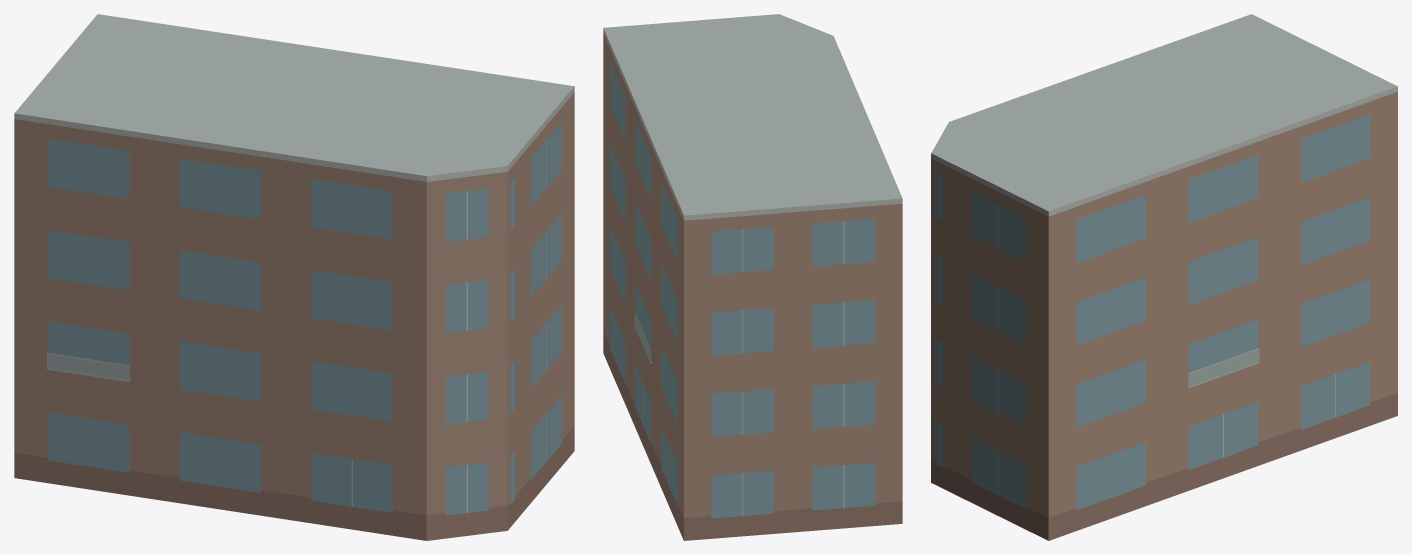
The model's file is survey-upis-32926581.glb.
3 renders of one model, left to right at view 1: azimuth 30°, elevation 25°; view 2: azimuth 150°, elevation 25°; view 3: azimuth 270°, elevation 25°, orthographic. The views are drawn at different scales.
Visible parts, largest first — view 1: survey-upis-32926581.tmp; view 2: survey-upis-32926581.tmp; view 3: survey-upis-32926581.tmp.
Part boxes in pixels (x1,y1,x2,y2): survey-upis-32926581.tmp: (14, 14, 574, 540); survey-upis-32926581.tmp: (603, 14, 902, 540); survey-upis-32926581.tmp: (931, 14, 1397, 540).
Bounding box in the file's own units: 19.8 × 15.4 × 19.78.
